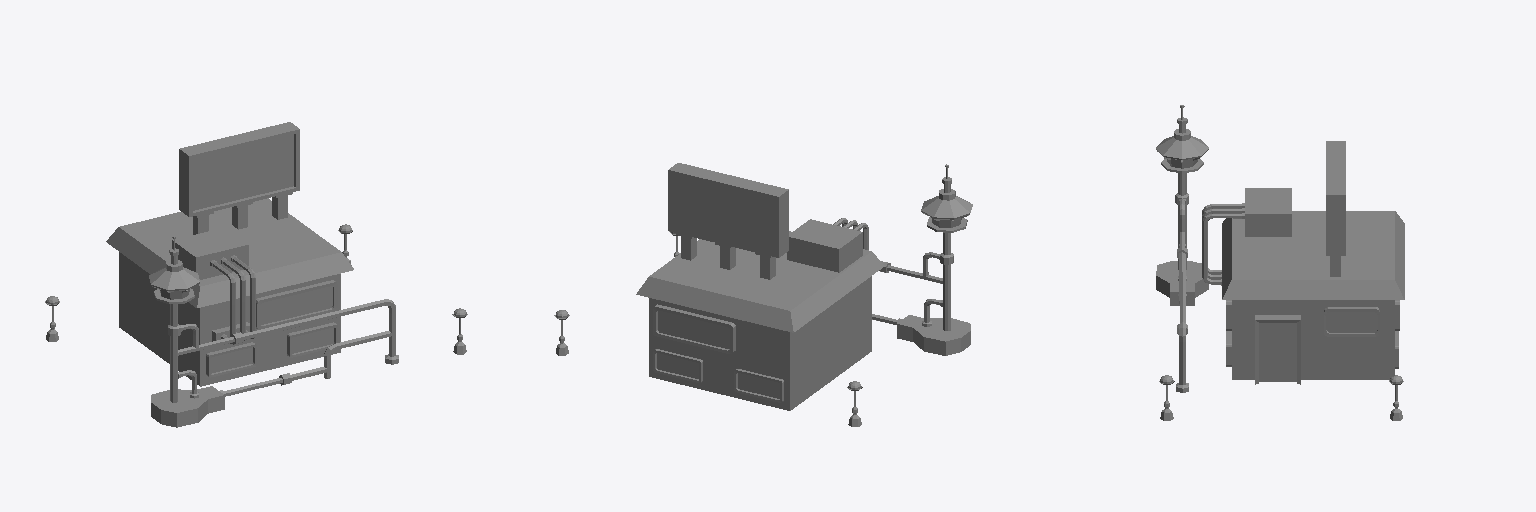
File: tiendafuturama.obj
The picture shows the model from 3 angles: view 1: azimuth 30°, elevation 25°; view 2: azimuth 150°, elevation 25°; view 3: azimuth 270°, elevation 25°; orthographic projection.
Parts seen in each view (by area): view 1: House_Reklama_pCube110, Fonar_pCylinder100; view 2: House_Reklama_pCube110, Fonar_pCylinder100; view 3: House_Reklama_pCube110, Fonar_pCylinder100.
Boxes of the visible parts, x1=… form: House_Reklama_pCube110: x1=106, y1=122, x2=353, y2=386; Fonar_pCylinder100: x1=149, y1=236, x2=398, y2=427; House_Reklama_pCube110: x1=636, y1=163, x2=884, y2=410; Fonar_pCylinder100: x1=872, y1=164, x2=972, y2=355; House_Reklama_pCube110: x1=1202, y1=141, x2=1404, y2=384; Fonar_pCylinder100: x1=1156, y1=105, x2=1208, y2=392.
Bounding box in the file's own units: 54.43 × 31.77 × 38.2.